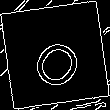O_NE: (22, 21, 88, 89)
